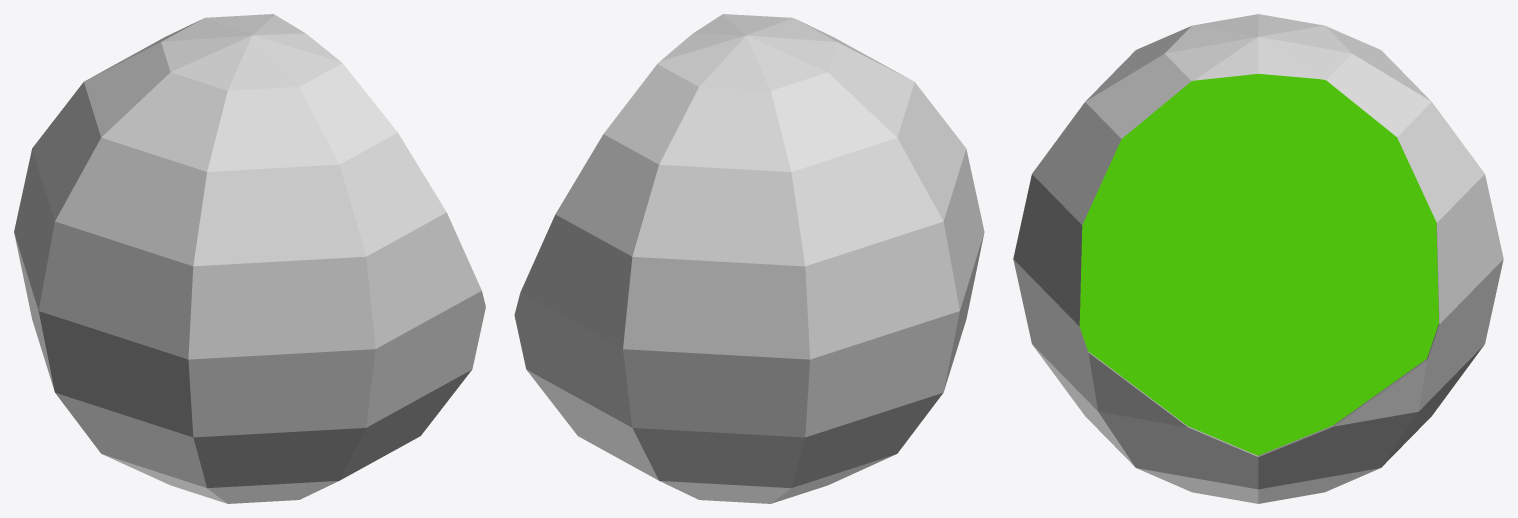
File: avatarBox.glb
3 renders of one model, left to right at view 1: azimuth 30°, elevation 25°; view 2: azimuth 150°, elevation 25°; view 3: azimuth 270°, elevation 25°, orthographic.
Visible parts, largest first — view 1: Sphere.003; view 2: Sphere.003; view 3: Sphere.003.
Boxes of the visible parts, box(x1,y1,x2,y2) form: Sphere.003: box(14, 14, 485, 503); Sphere.003: box(514, 14, 984, 503); Sphere.003: box(1013, 14, 1503, 503).
Size of the model in its own units: 2.18 by 2.36 by 2.36.
